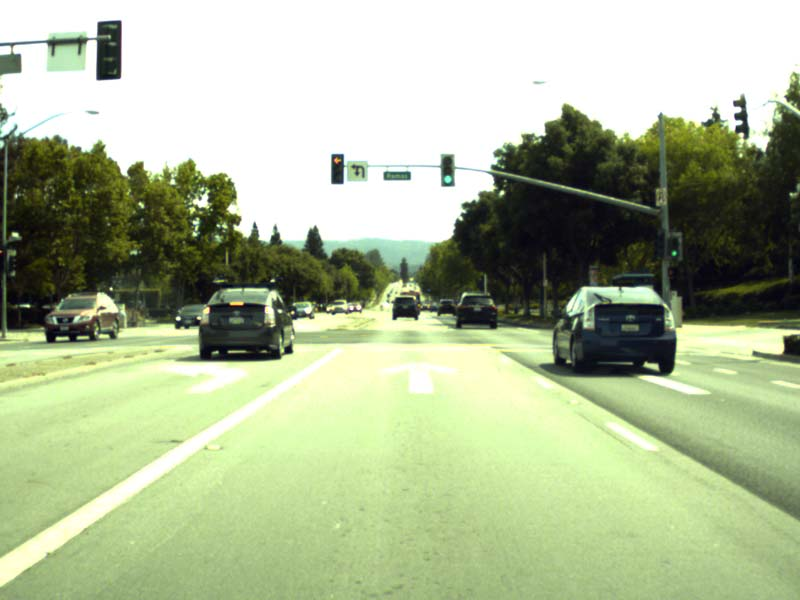Green: (440, 155, 453, 186), (667, 238, 678, 259)
Red: (330, 154, 343, 182)
